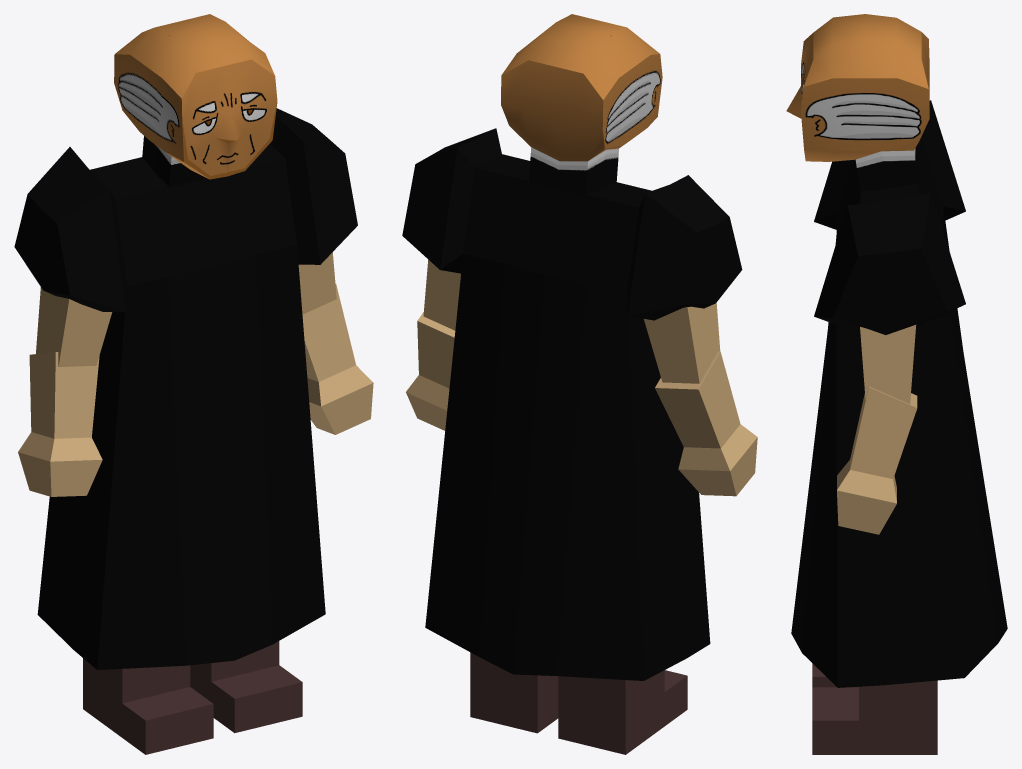
Rendered from priest.fbx.
3 renders of one model, left to right at view 1: azimuth 30°, elevation 25°; view 2: azimuth 150°, elevation 25°; view 3: azimuth 270°, elevation 25°, orthographic.
Parts seen in each view (by area): view 1: body, forearmright, legright, legleft, forearmright2, armright; view 2: body, forearmright, legright, armright, legleft, forearmright2; view 3: body, legleft, forearmright2, armright.
Part boxes in pixels (bbox=[...]): body: bbox=[14, 14, 357, 669]; forearmright: bbox=[18, 352, 102, 496]; legright: bbox=[83, 658, 213, 754]; legleft: bbox=[190, 641, 302, 733]; forearmright2: bbox=[302, 283, 373, 434]; armright: bbox=[36, 252, 336, 366]; body: bbox=[402, 14, 742, 680]; forearmright: bbox=[655, 351, 757, 496]; legright: bbox=[558, 670, 687, 754]; armright: bbox=[423, 260, 720, 383]; legleft: bbox=[470, 652, 558, 733]; forearmright2: bbox=[406, 312, 455, 430]; body: bbox=[786, 14, 1007, 687]; legleft: bbox=[812, 680, 937, 754]; forearmright2: bbox=[837, 386, 917, 534]; armright: bbox=[860, 325, 916, 403].
Size of the model in its own units: 4.82 by 9.66 by 2.81.
4 materials, 1 textured.
